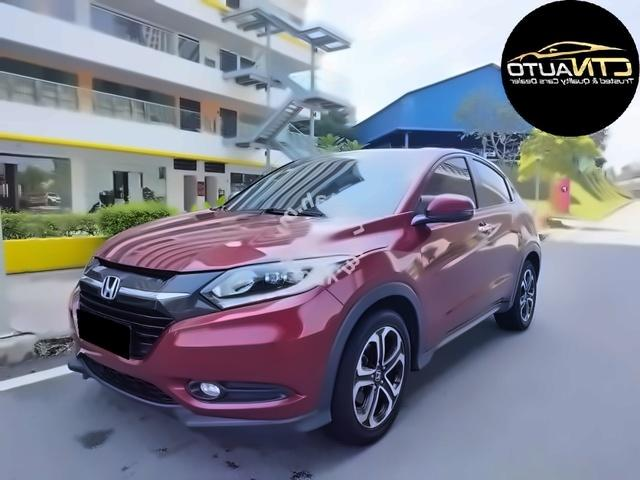Car hood: (98, 206, 392, 271)
Fender - -F-L-: (324, 213, 430, 414)
Front bumper: (66, 284, 345, 433)
Headlight - -L-: (196, 255, 352, 313)
Passenger-s door - -F-L-: (411, 142, 493, 384)
Passenger-s door - -R-L-: (463, 142, 531, 348)
Side bumper - -L-: (411, 278, 522, 405)
Side mirror - -L-: (413, 191, 473, 236)
